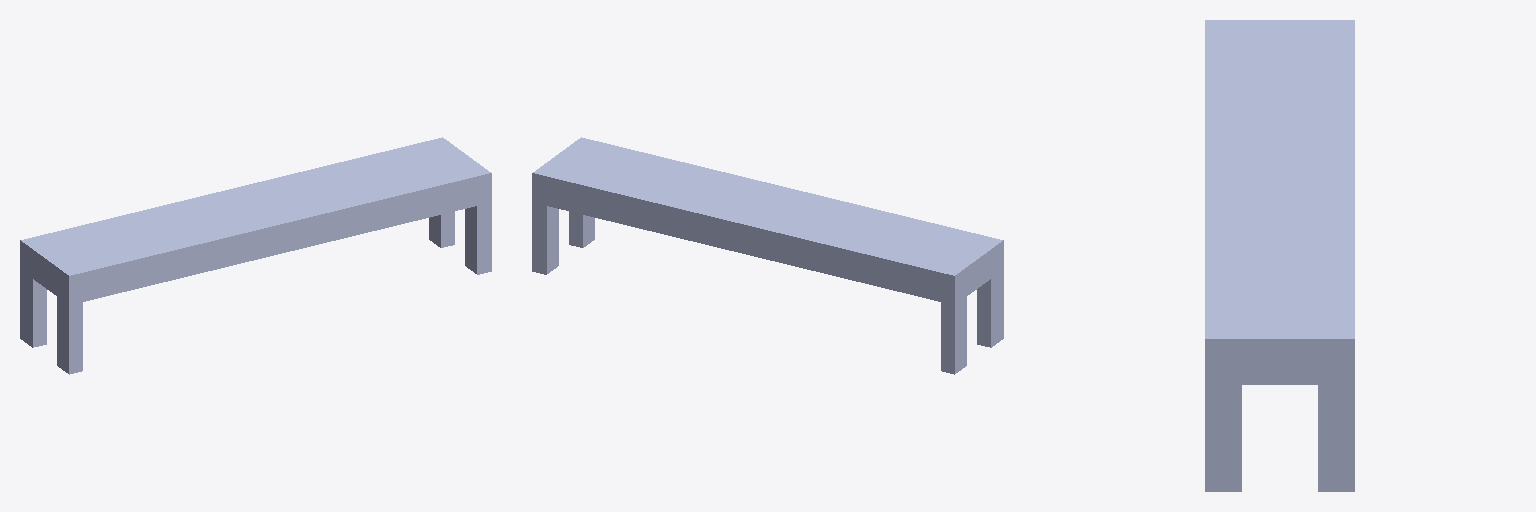
robot.urdf — Feeder:
<?xml version="1.0" encoding="utf-8"?>
<!-- This URDF was automatically created by SolidWorks to URDF Exporter! Originally created by Stephen Brawner (brawner@gmail.com) 
     Commit Version: 1.6.0-4-g7f85cfe  Build Version: 1.6.7995.38578
     For more information, please see http://wiki.ros.org/sw_urdf_exporter -->
<robot
  name="Feeder">
  <link
    name="Feeder">
    <inertial>
      <origin
        xyz="-0.0143248838901013 -0.00189594051485911 1.05456646058733"
        rpy="0 0 0" />
      <mass
        value="0.3882" />
      <inertia
        ixx="0.00333967963531685"
        ixy="-2.48154183765909E-20"
        ixz="-1.75831877865859E-20"
        iyy="0.000169344635316847"
        iyz="4.7052232238389E-20"
        izz="0.003415945" />
    </inertial>
    <visual>
      <origin
        xyz="0 0 0"
        rpy="0 0 0" />
      <geometry>
        <mesh
          filename="package://Feeder/meshes/Feeder.STL" />
      </geometry>
      <material
        name="">
        <color
          rgba="0.792156862745098 0.819607843137255 0.933333333333333 1" />
      </material>
    </visual>
    <collision>
      <origin
        xyz="0 0 0"
        rpy="0 0 0" />
      <geometry>
        <mesh
          filename="package://Feeder/meshes/Feeder.STL" />
      </geometry>
    </collision>
  </link>
</robot>

--- Facts derived from the render (not from the file) ---
The picture shows the robot from 3 angles, left to right: view 1: azimuth 30°, elevation 25°; view 2: azimuth 150°, elevation 25°; view 3: azimuth 270°, elevation 25°; orthographic projection.
Model Feeder with 1 links and 0 joints (none), rooted at Feeder, posed all joints at 0.
Links seen in each view (by area): view 1: Feeder; view 2: Feeder; view 3: Feeder.
Link boxes in pixels (x1,y1,x2,y2): Feeder: (20, 137, 491, 374); Feeder: (532, 137, 1003, 374); Feeder: (1205, 20, 1354, 491).
Bounding box of the posed robot: 0.3 × 0.06 × 0.067 m (x, y, z).
1 mesh visuals loaded from 1 distinct referenced files (1 binary STL).
